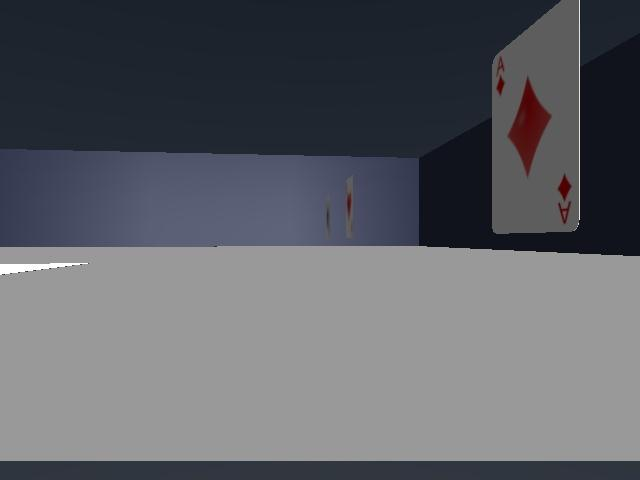diamond: (492, 0, 579, 233)
